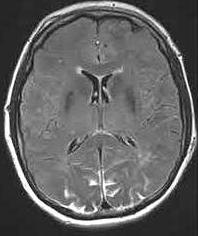Normal_Brain: (1, 1, 198, 236)
